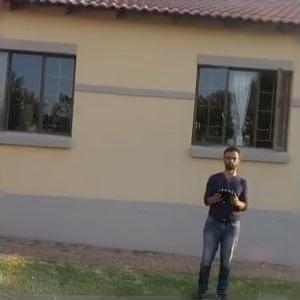follow: (187, 135, 252, 298)
